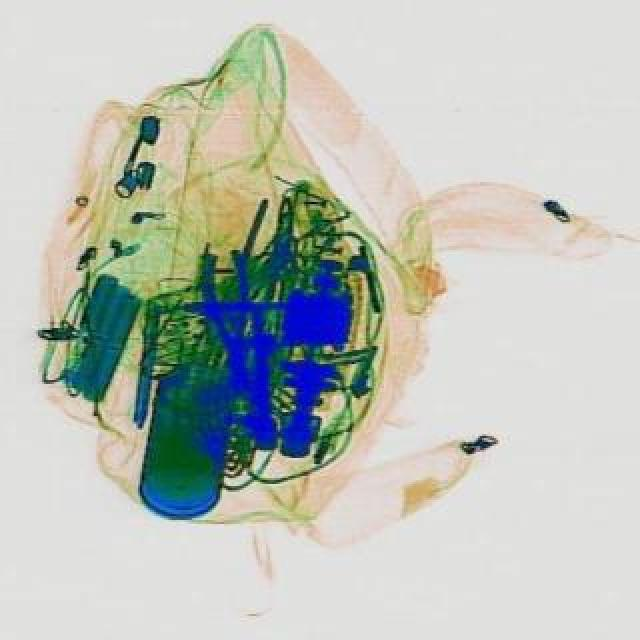wrench: (200, 246, 270, 392)
